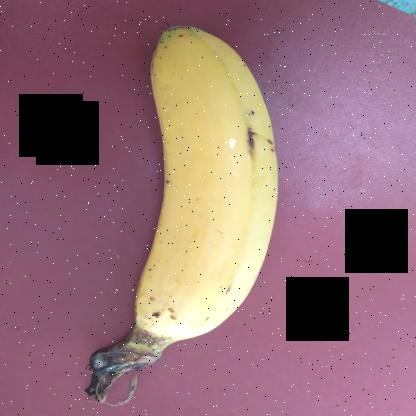freshripe: (103, 0, 332, 352)
